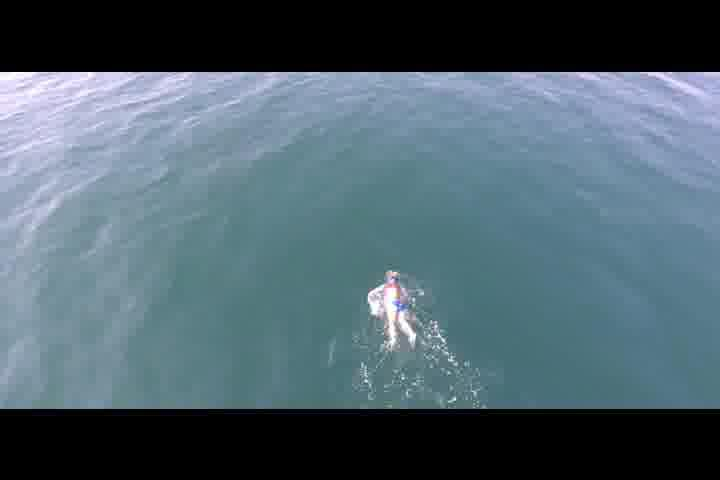swimmer: (370, 272, 422, 357)
